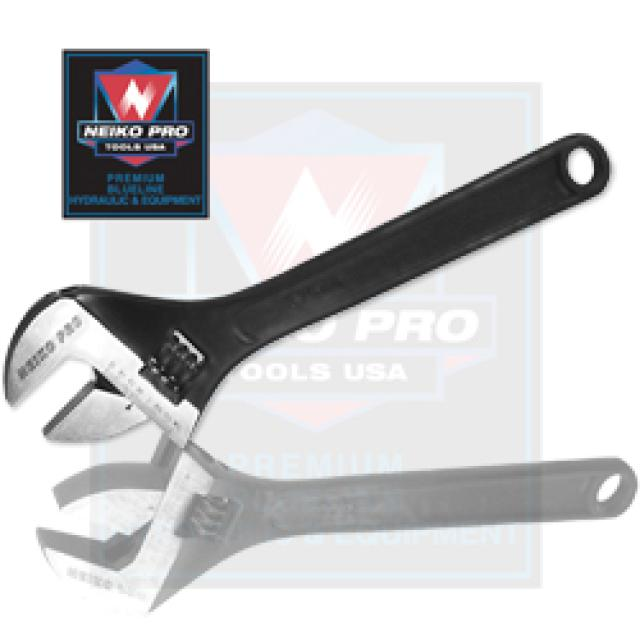wrench: (25, 425, 640, 640), (0, 233, 451, 460)
